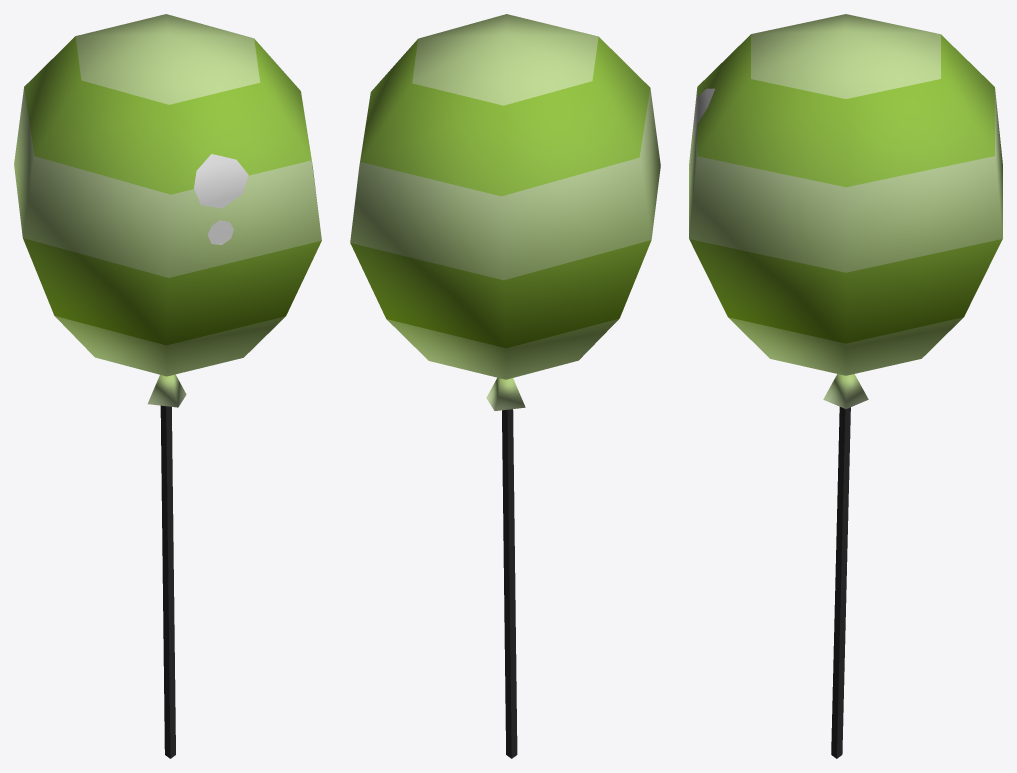
The model's file is stripedBaloonC.glb.
3 renders of one model, left to right at view 1: azimuth 30°, elevation 25°; view 2: azimuth 150°, elevation 25°; view 3: azimuth 270°, elevation 25°, orthographic.
Parts seen in each view (by area): view 1: stripedBaloonC; view 2: stripedBaloonC; view 3: stripedBaloonC.
Boxes of the visible parts, x1,y1,x2,y2 form: stripedBaloonC: (14, 14, 321, 758); stripedBaloonC: (350, 14, 660, 758); stripedBaloonC: (689, 14, 1002, 758).
Size of the model in its own units: 0.5473 by 1.29 by 0.5071.
